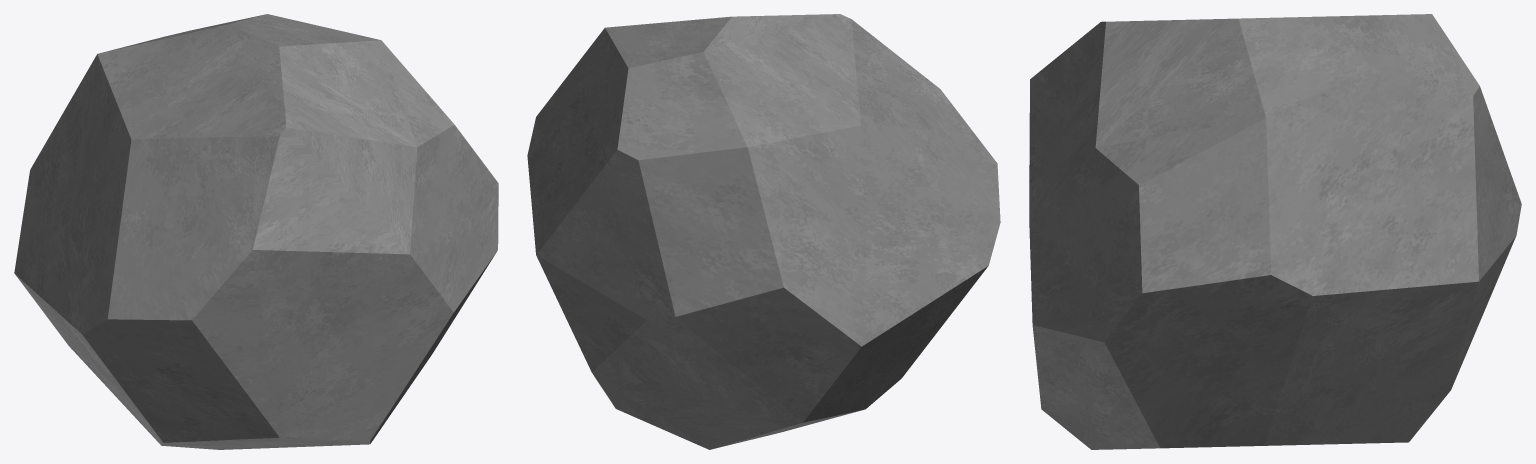
Rendered from Rock_3.glb.
3 views of the same model, side by side, from view 1: azimuth 30°, elevation 25°; view 2: azimuth 150°, elevation 25°; view 3: azimuth 270°, elevation 25° (orthographic). The views are drawn at different scales.
Parts seen in each view (by area): view 1: Rock.009; view 2: Rock.009; view 3: Rock.009.
Boxes of the visible parts, x1,y1,x2,y2 form: Rock.009: (14,14,498,449); Rock.009: (527,14,1000,449); Rock.009: (1029,14,1521,449).
Size of the model in its own units: 1.45 by 1.35 by 1.32.
Materials: 1 (1 with a texture image).
